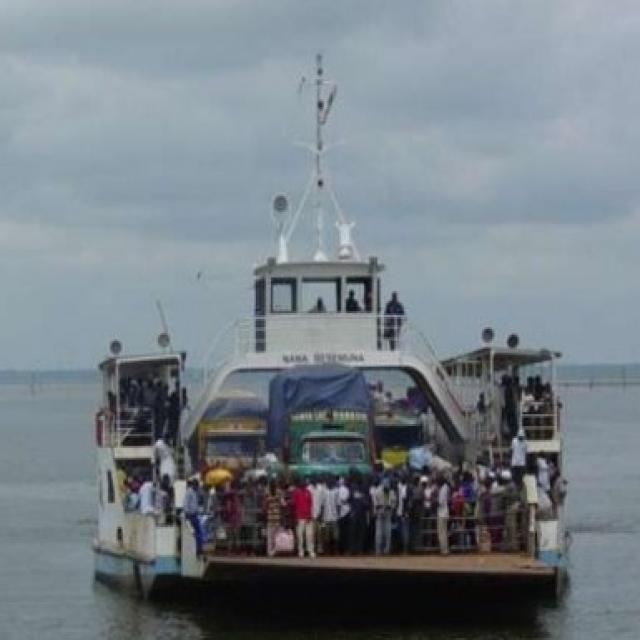passenger ship: (76, 202, 558, 570)
